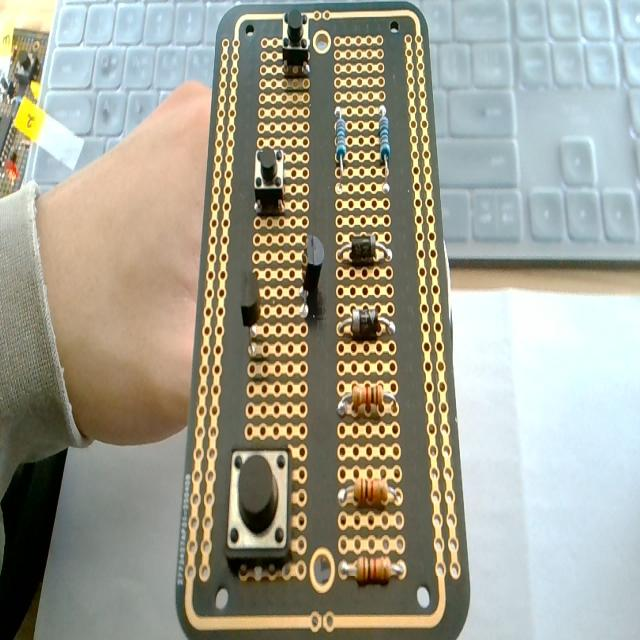diode: (338, 308, 394, 340), (337, 234, 390, 264)
resistor: (338, 384, 398, 418), (341, 555, 402, 584), (339, 478, 400, 506), (378, 104, 391, 191), (334, 106, 347, 186)
switch: (226, 447, 291, 558), (253, 147, 286, 216), (281, 8, 309, 76)
transistor: (240, 272, 262, 356), (301, 237, 326, 310)
